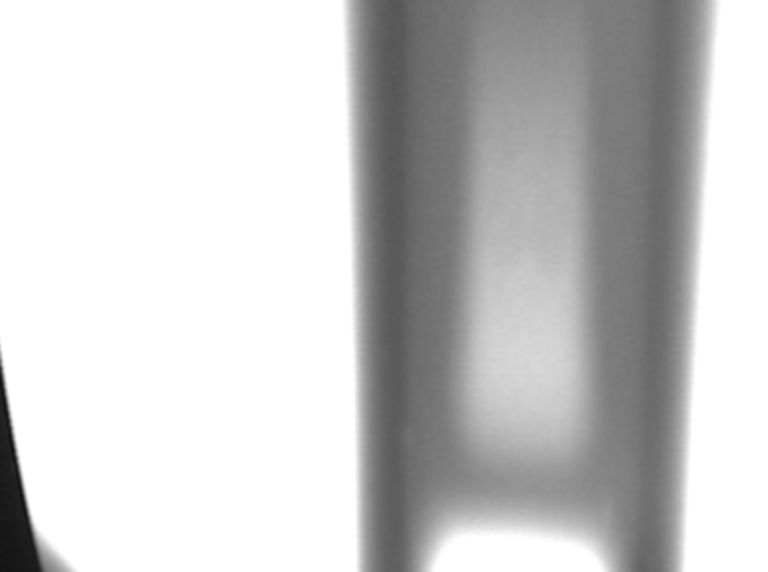defect: (399, 426, 422, 471)
